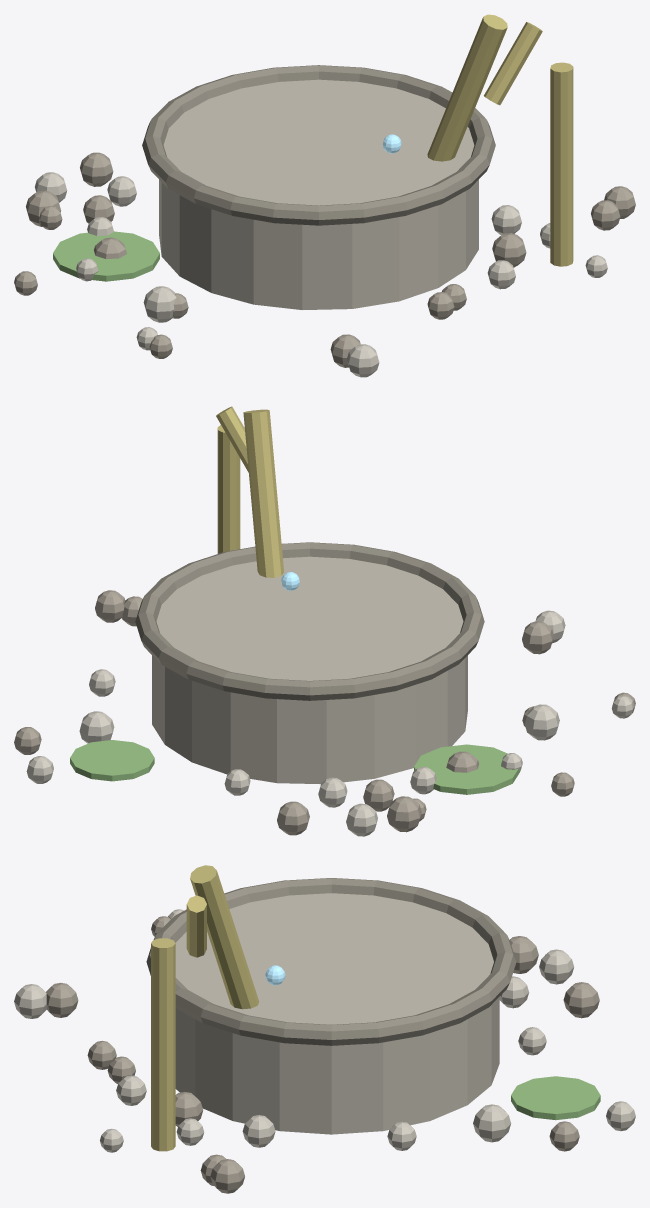
Rendered from suikinkutsu.glb.
3 renders of one model, top to bottom at view 1: azimuth 30°, elevation 25°; view 2: azimuth 150°, elevation 25°; view 3: azimuth 270°, elevation 25°, orthographic. The views are drawn at different scales.
Parts seen in each view (by area): view 1: suikinkutsu; view 2: suikinkutsu; view 3: suikinkutsu.
Boxes of the visible parts, x1,y1,x2,y2 form: suikinkutsu: [14, 14, 635, 377]; suikinkutsu: [14, 406, 635, 836]; suikinkutsu: [14, 865, 635, 1193].
Bounding box in the file's own units: 1.19 × 0.5088 × 1.11.
